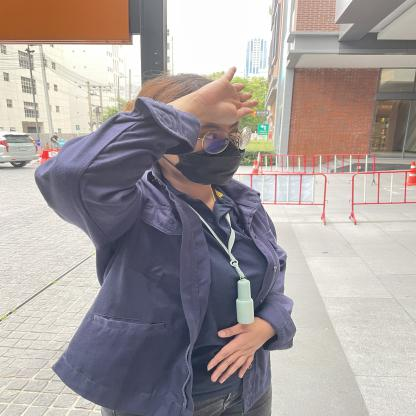Sick: (116, 63, 297, 138)
